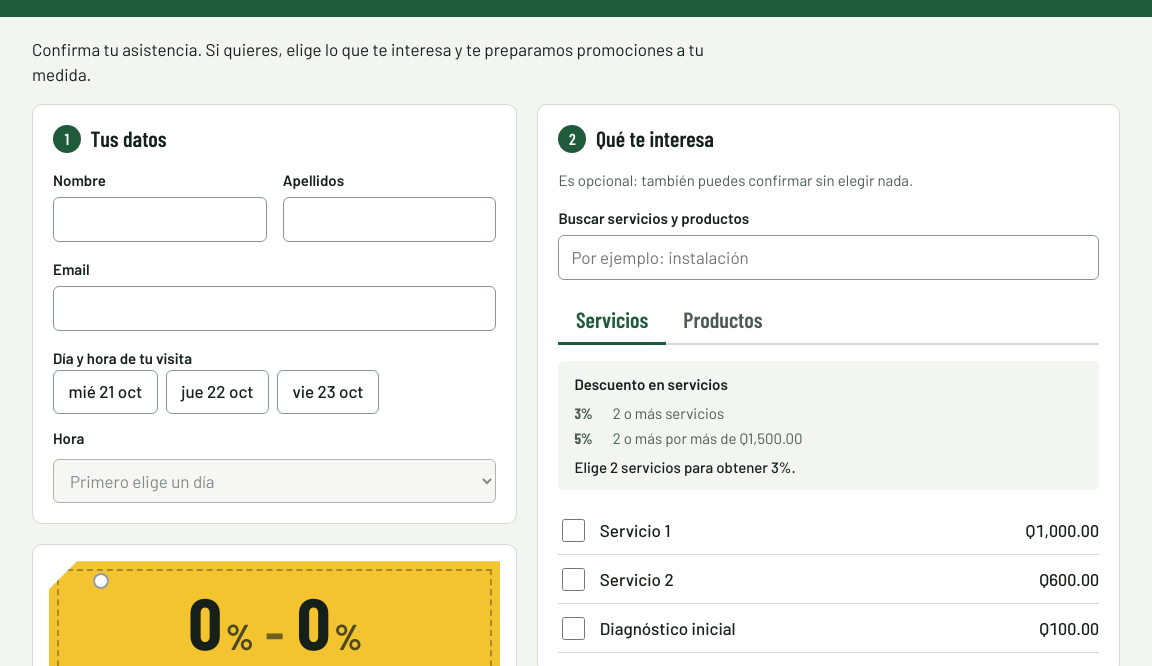
Scenario: registration closed › switches to the notice when the server closes registration during the confirm
Type "Ana" into the field labelled "Nombre".
click(160, 219); type("Ana")  # box x1=53 y1=197 x2=267 y2=242
Type "Lopez" into the field labelled "Apellidos".
click(390, 219); type("Lopez")  # box x1=283 y1=197 x2=496 y2=242
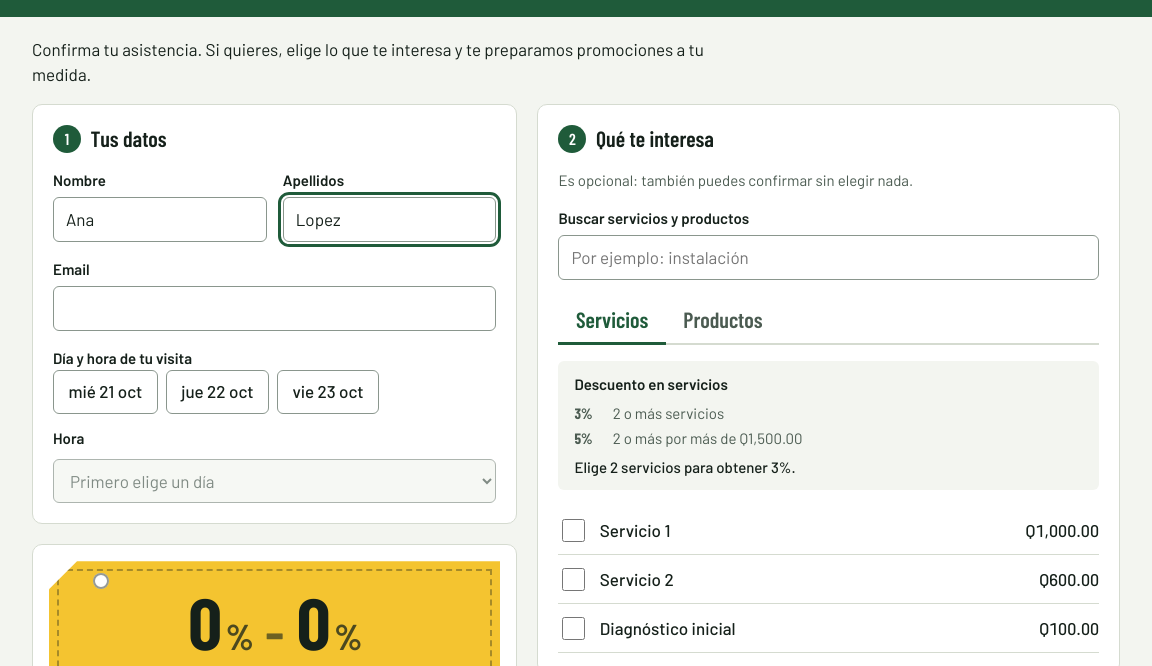
Type "ana@example.com" into the field labelled "Email".
click(275, 309); type("ana@example.com")  # box x1=53 y1=286 x2=496 y2=331
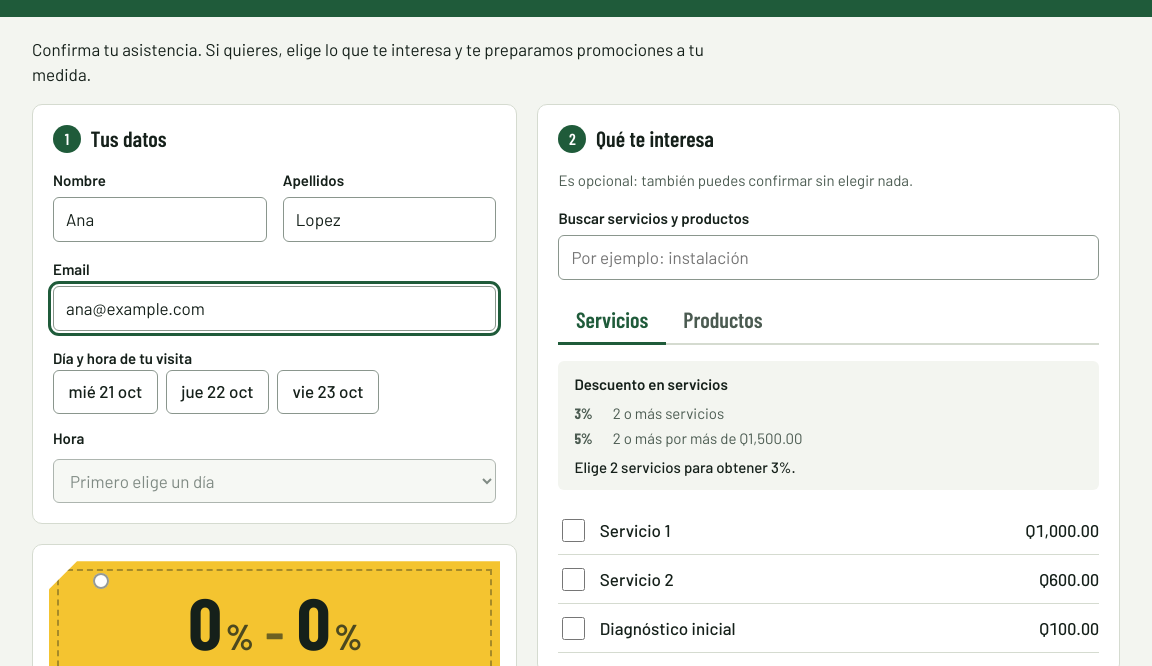
Click the 1st radio button.
click(105, 392)  # box x1=53 y1=370 x2=158 y2=414
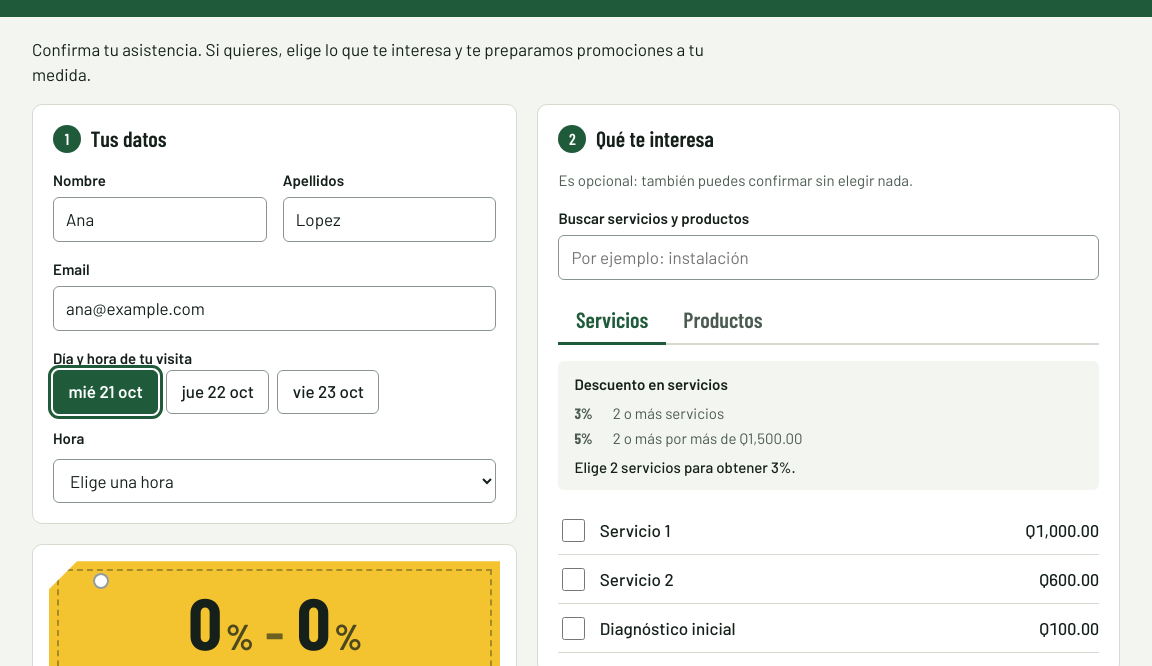
Select "10:00" in the dropdown labelled "Hora" at (275, 481), box x1=53 y1=459 x2=496 y2=503
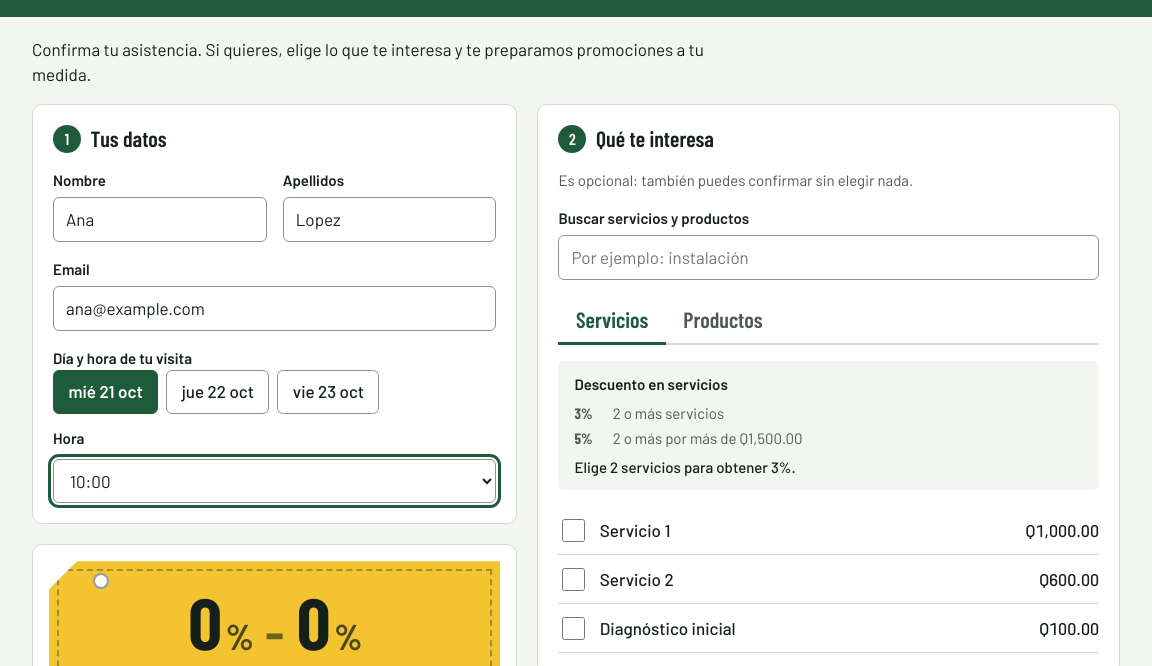
Click the checkbox labelled "Servicio 1 Q1,000.00".
click(574, 530)  # box x1=562 y1=519 x2=585 y2=542
(page scrolled)
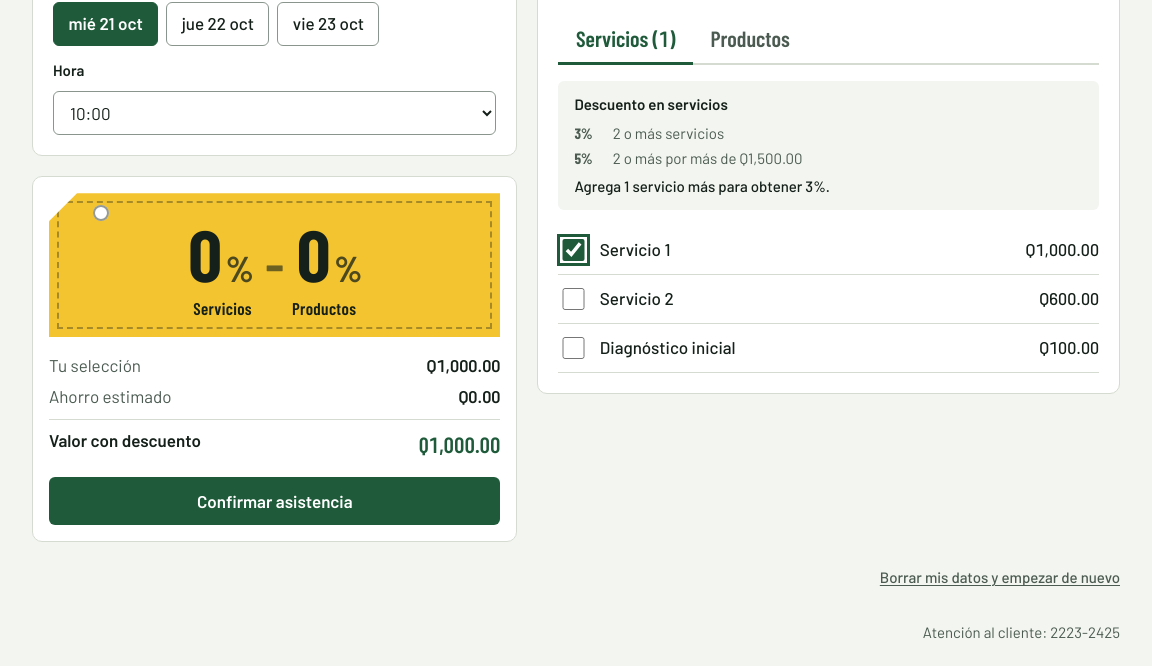
Click the button "Confirmar asistencia".
click(275, 501)  # box x1=49 y1=477 x2=500 y2=525
(page scrolled)
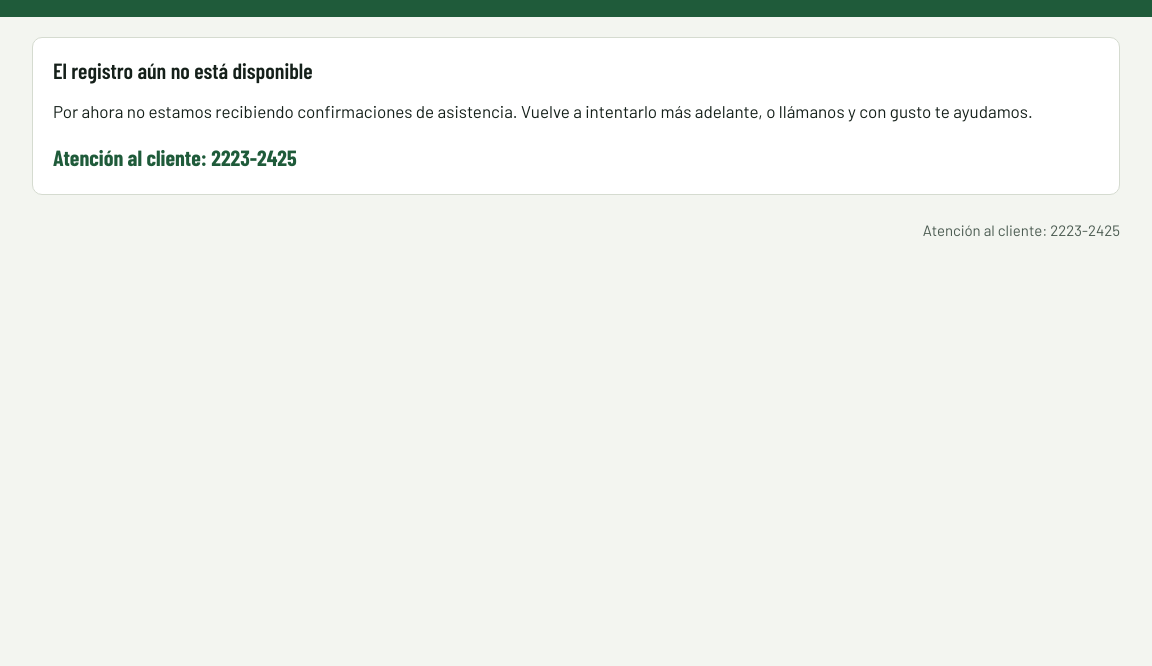
Now the heading "El registro aún no está disponible" is shown, box x1=53 y1=57 x2=312 y2=83
